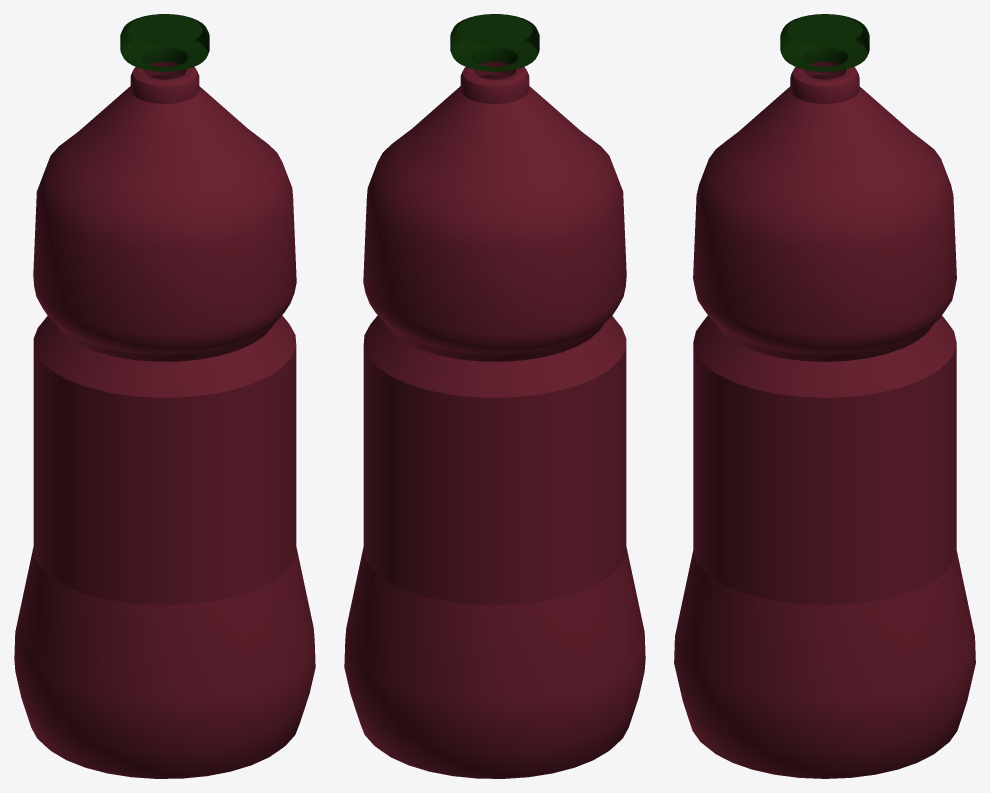
File: bottle12.glb
3 renders of one model, left to right at view 1: azimuth 30°, elevation 25°; view 2: azimuth 150°, elevation 25°; view 3: azimuth 270°, elevation 25°, orthographic.
Visible parts, largest first — view 1: Bottle12; view 2: Bottle12; view 3: Bottle12.
Boxes of the visible parts, box(x1,y1,x2,y2) form: Bottle12: box(14, 14, 315, 778); Bottle12: box(344, 14, 645, 778); Bottle12: box(674, 14, 975, 778).
Bounding box in the file's own units: 0.4945 × 1.25 × 0.4945.
